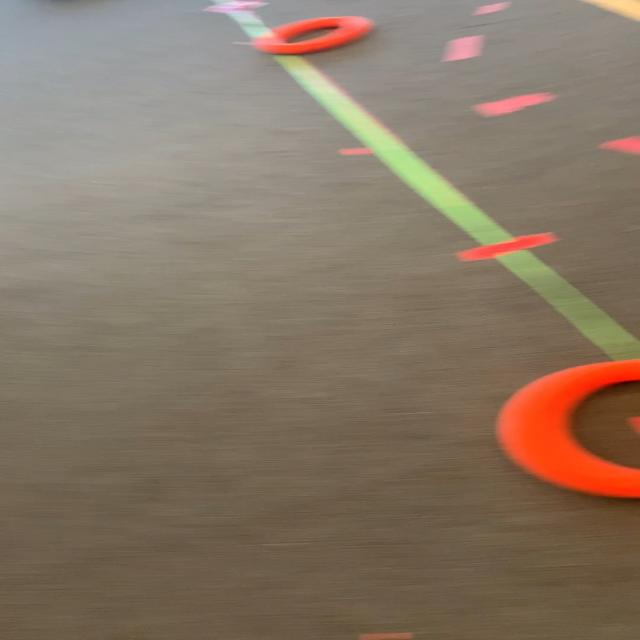notes: (498, 356, 640, 500), (257, 16, 370, 54)
